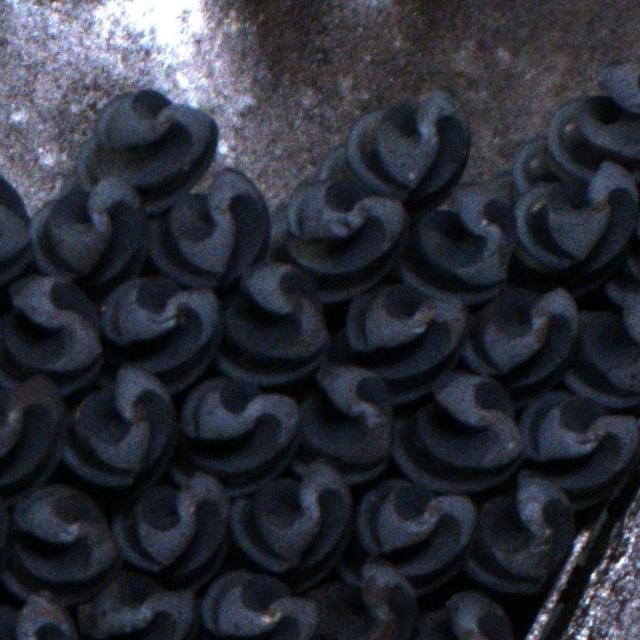tool_b: (59, 86, 220, 212), (319, 86, 471, 202), (267, 176, 407, 301), (230, 458, 352, 594), (388, 372, 525, 493), (333, 283, 467, 405), (338, 477, 475, 595), (168, 376, 301, 495), (59, 363, 175, 495), (112, 469, 234, 590), (148, 166, 271, 286), (458, 284, 578, 405), (518, 389, 640, 508), (30, 176, 146, 300), (215, 260, 331, 384), (96, 276, 220, 392), (1, 486, 119, 607), (464, 467, 575, 594), (513, 158, 640, 268), (399, 185, 516, 302), (290, 362, 393, 482), (0, 273, 102, 394), (546, 63, 640, 180), (562, 282, 640, 406), (302, 557, 416, 640), (185, 571, 318, 640), (0, 373, 65, 506), (77, 572, 199, 640), (398, 591, 516, 640)
